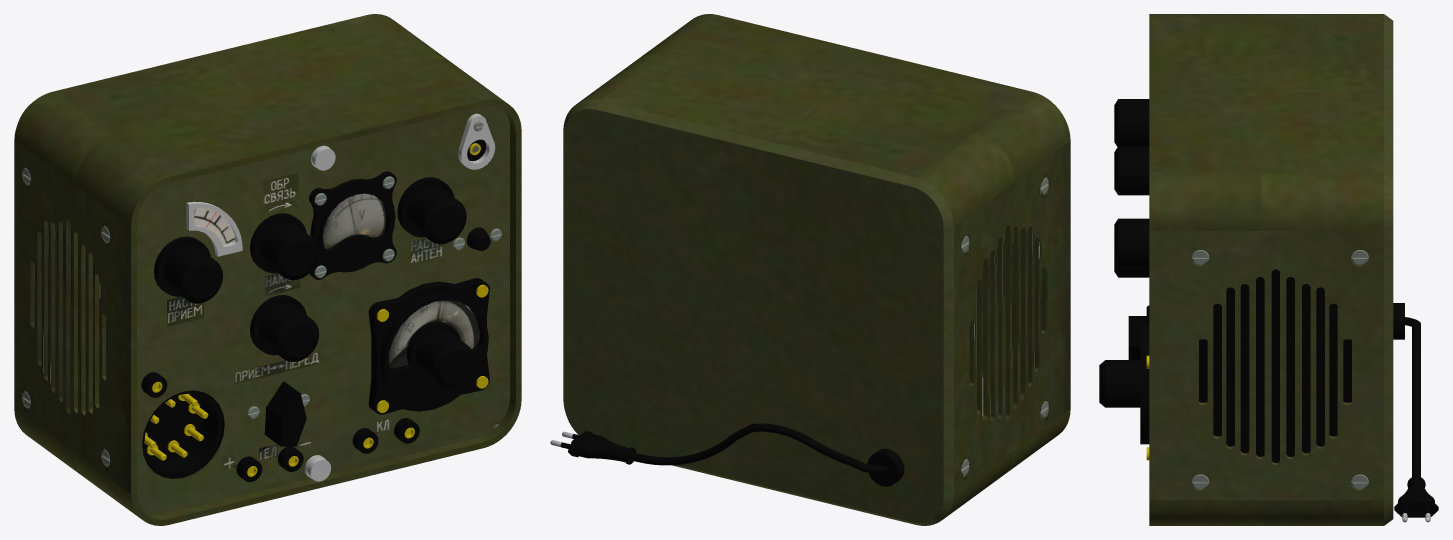
Rendered from sever.glb.
3 views of the same model, side by side, from view 1: azimuth 30°, elevation 25°; view 2: azimuth 150°, elevation 25°; view 3: azimuth 270°, elevation 25° (orthographic).
Parts seen in each view (by area): view 1: Material2 (×15); view 2: Material2 (×8); view 3: Material2 (×7).
Boxes of the visible parts, x1,y1,x2,y2 form: Material2 (×15): [14, 14, 521, 525]; Material2 (×8): [563, 14, 1070, 525]; Material2 (×7): [1099, 14, 1438, 525].
Size of the model in its own units: 13.76 by 11.71 by 10.3.
Materials: 24 (19 with a texture image).
